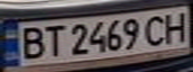2: (66, 20, 90, 56)
4: (87, 18, 109, 55)
6: (103, 17, 127, 53)
9: (121, 16, 145, 51)
B: (15, 24, 48, 61)
C: (139, 12, 172, 47)
H: (160, 9, 193, 44)
T: (39, 22, 66, 58)
